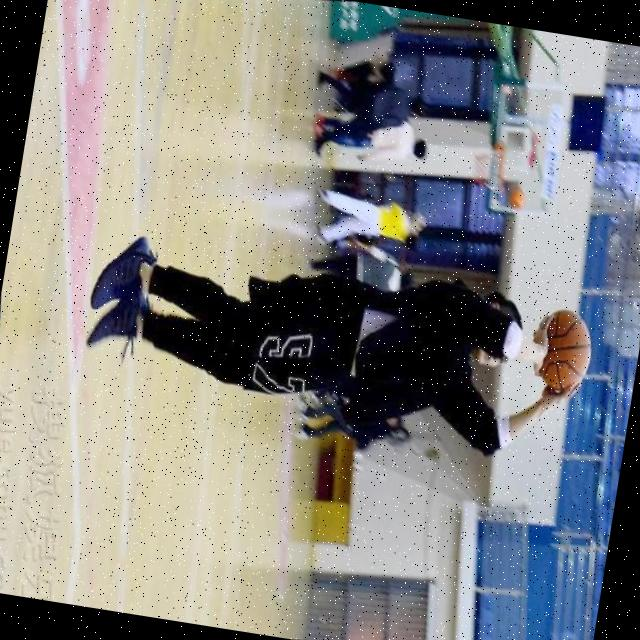ball: (530, 304, 600, 399)
